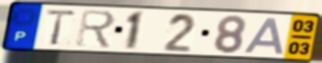1: (124, 9, 149, 52)
2: (161, 12, 199, 54)
8: (212, 14, 248, 55)
A: (242, 16, 287, 56)
R: (75, 8, 118, 50)
T: (43, 8, 79, 47)
